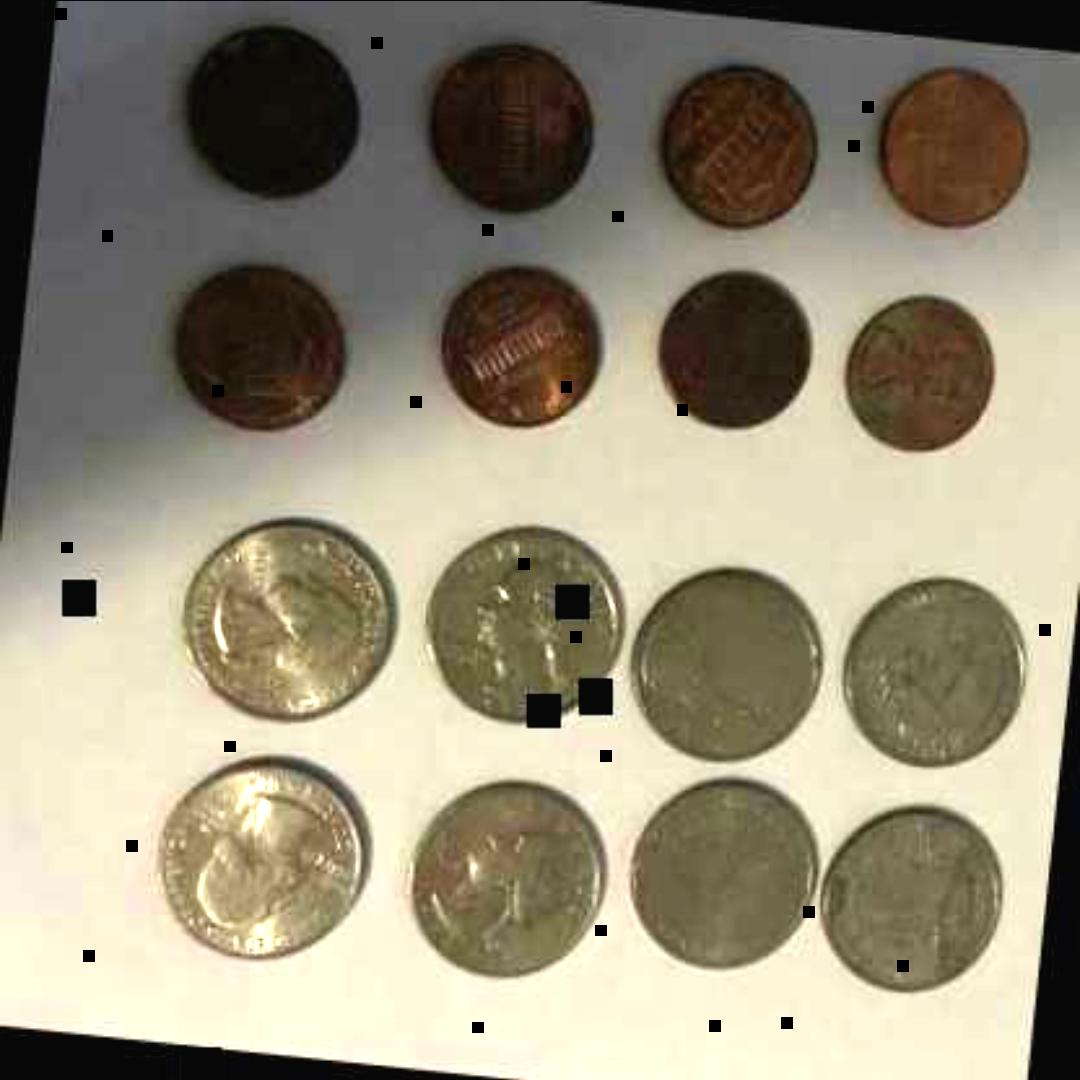Penny: (168, 11, 370, 208), (413, 26, 599, 224), (163, 255, 357, 441), (430, 251, 616, 443), (644, 49, 830, 238), (860, 57, 1038, 241), (644, 262, 820, 438), (832, 290, 1004, 460)
Quarter: (164, 502, 408, 738), (147, 752, 375, 980), (390, 764, 614, 988), (412, 514, 636, 738), (617, 554, 835, 778), (614, 769, 826, 989), (812, 792, 1018, 1008), (832, 568, 1038, 774)
